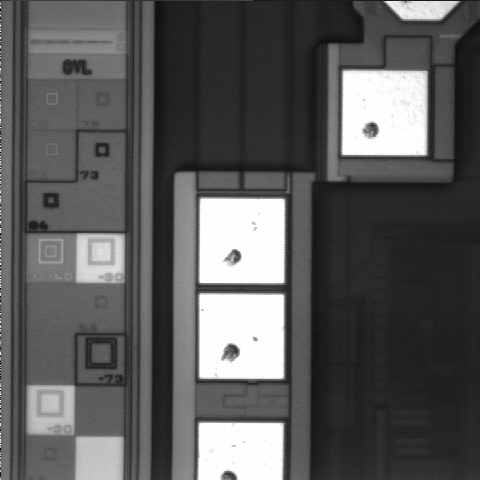pad: (199, 198, 285, 283), (199, 294, 284, 379), (342, 71, 427, 155)
